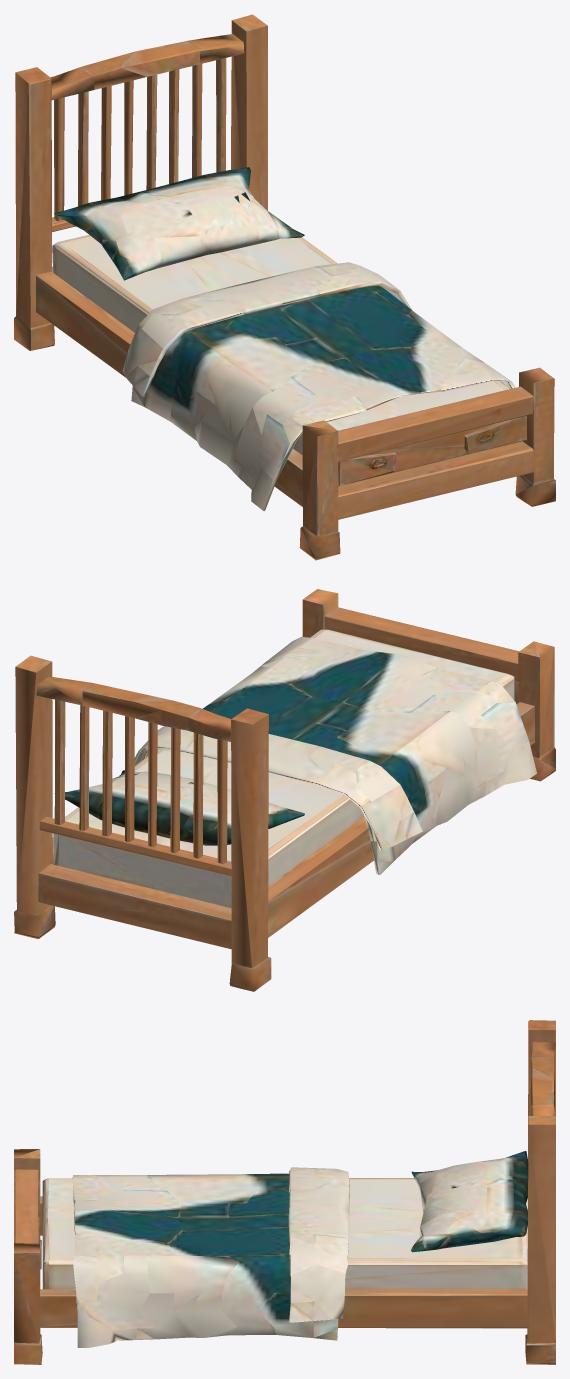
The model's file is bed.lod1.glb.
The picture shows the model from 3 angles, top to bottom: view 1: azimuth 30°, elevation 25°; view 2: azimuth 150°, elevation 25°; view 3: azimuth 270°, elevation 25°; orthographic projection. The views are drawn at different scales.
Size of the model in its own units: 1.1 by 1 by 2.05.
Materials: 1 (1 with a texture image).
